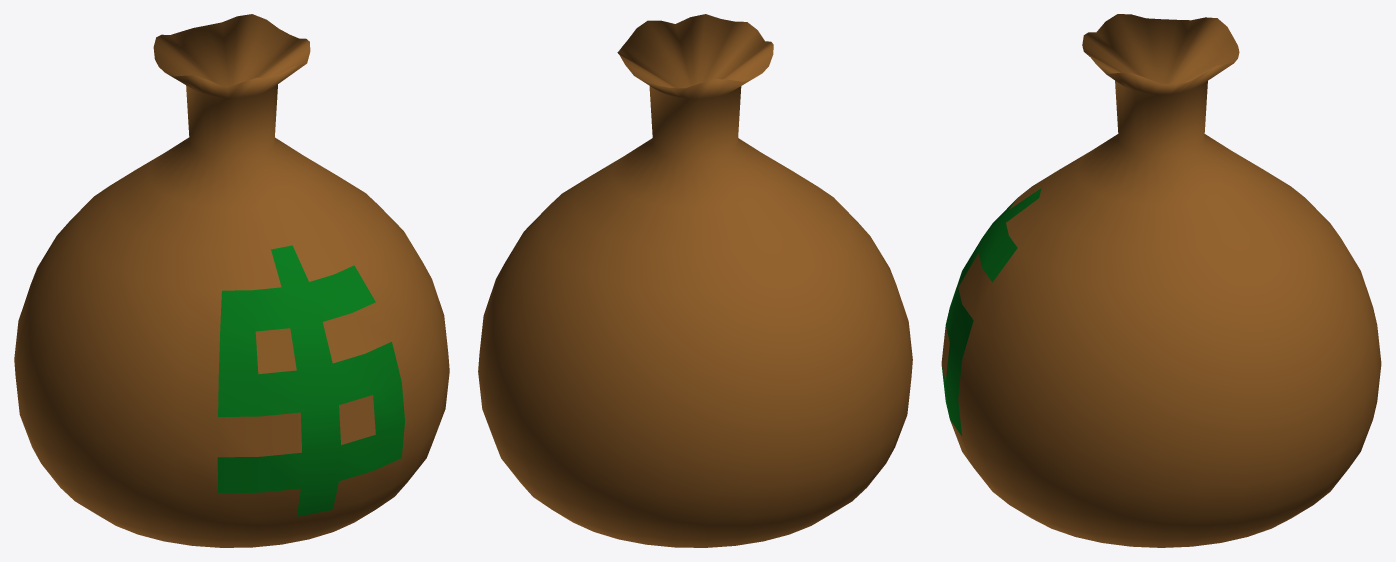
File: moneybag.fbx
3 renders of one model, left to right at view 1: azimuth 30°, elevation 25°; view 2: azimuth 150°, elevation 25°; view 3: azimuth 270°, elevation 25°, orthographic.
Parts seen in each view (by area): view 1: Sphere, Sphere.001; view 2: Sphere; view 3: Sphere, Sphere.001.
Boxes of the visible parts, bbox=[...] form: Sphere: bbox=[14, 14, 449, 547]; Sphere.001: bbox=[217, 245, 404, 516]; Sphere: bbox=[478, 14, 912, 547]; Sphere: bbox=[941, 14, 1381, 547]; Sphere.001: bbox=[941, 188, 1041, 435].
Bounding box in the file's own units: 2 × 2.33 × 2.
